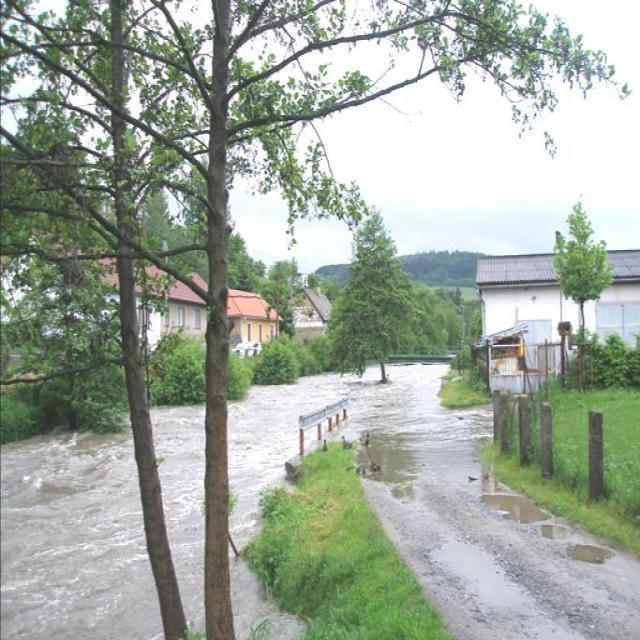flood: (0, 352, 359, 637)
